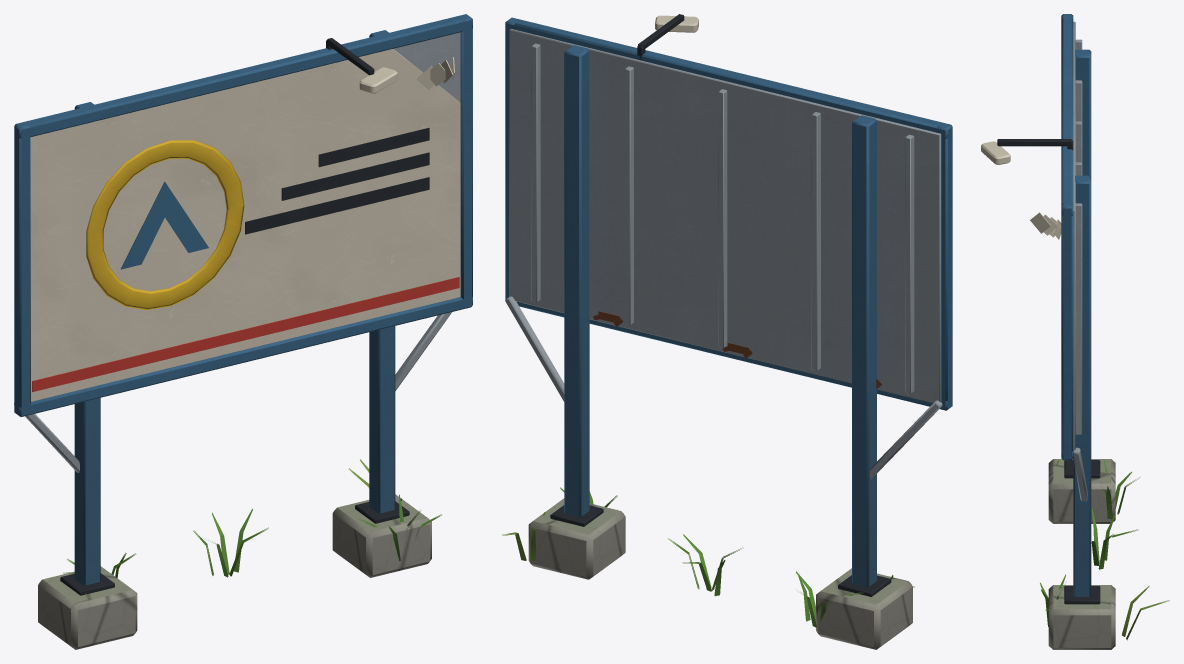
File: roadside_billboard_small.glb
The picture shows the model from 3 angles, left to right: view 1: azimuth 30°, elevation 25°; view 2: azimuth 150°, elevation 25°; view 3: azimuth 270°, elevation 25°; orthographic projection. The views are drawn at different scales.
Parts seen in each view (by area): view 1: roadside_billboard_small; view 2: roadside_billboard_small; view 3: roadside_billboard_small.
Part boxes in pixels (bbox=[...]): roadside_billboard_small: bbox=[14, 14, 472, 649]; roadside_billboard_small: bbox=[502, 14, 952, 649]; roadside_billboard_small: bbox=[981, 14, 1169, 649].
Bounding box in the file's own units: 3.08 × 3.5 × 1.27.
Materials: 16 (16 with a texture image).
